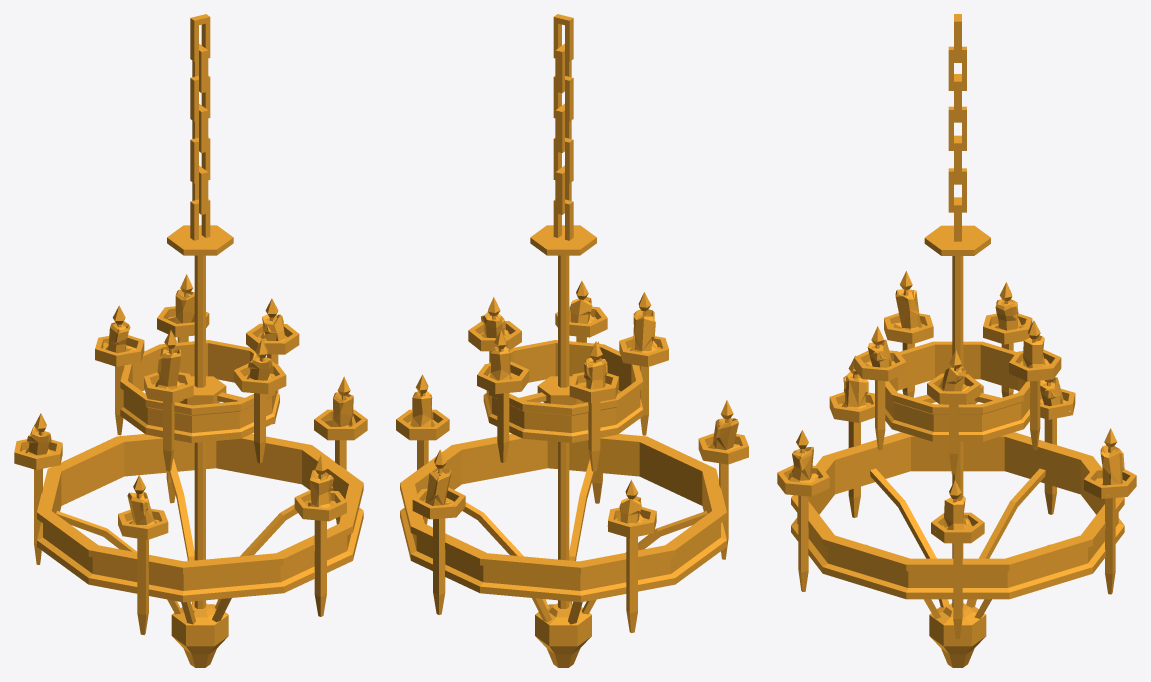
Rendered from SM_Chandelier_Candle_C_Fantasy.fbx.
3 views of the same model, side by side, from view 1: azimuth 30°, elevation 25°; view 2: azimuth 150°, elevation 25°; view 3: azimuth 270°, elevation 25° (orthographic).
Visible parts, largest first — view 1: chandelier-candle-c-fantasy; view 2: chandelier-candle-c-fantasy; view 3: chandelier-candle-c-fantasy.
Boxes of the visible parts, <box> form: chandelier-candle-c-fantasy: <box>14,14,367,667</box>; chandelier-candle-c-fantasy: <box>396,14,748,667</box>; chandelier-candle-c-fantasy: <box>777,14,1136,667</box>.
Bounding box in the file's own units: 1.01 × 2.08 × 1.05.
